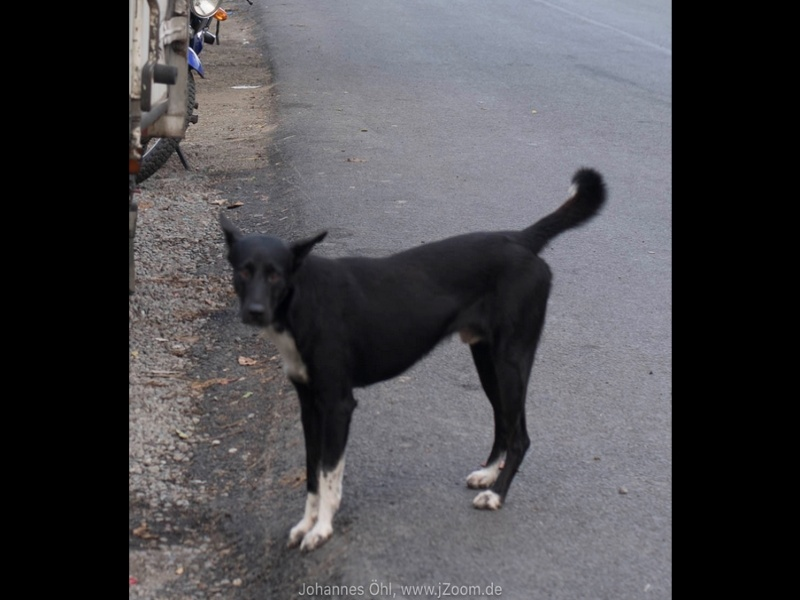dog: (217, 162, 611, 562)
